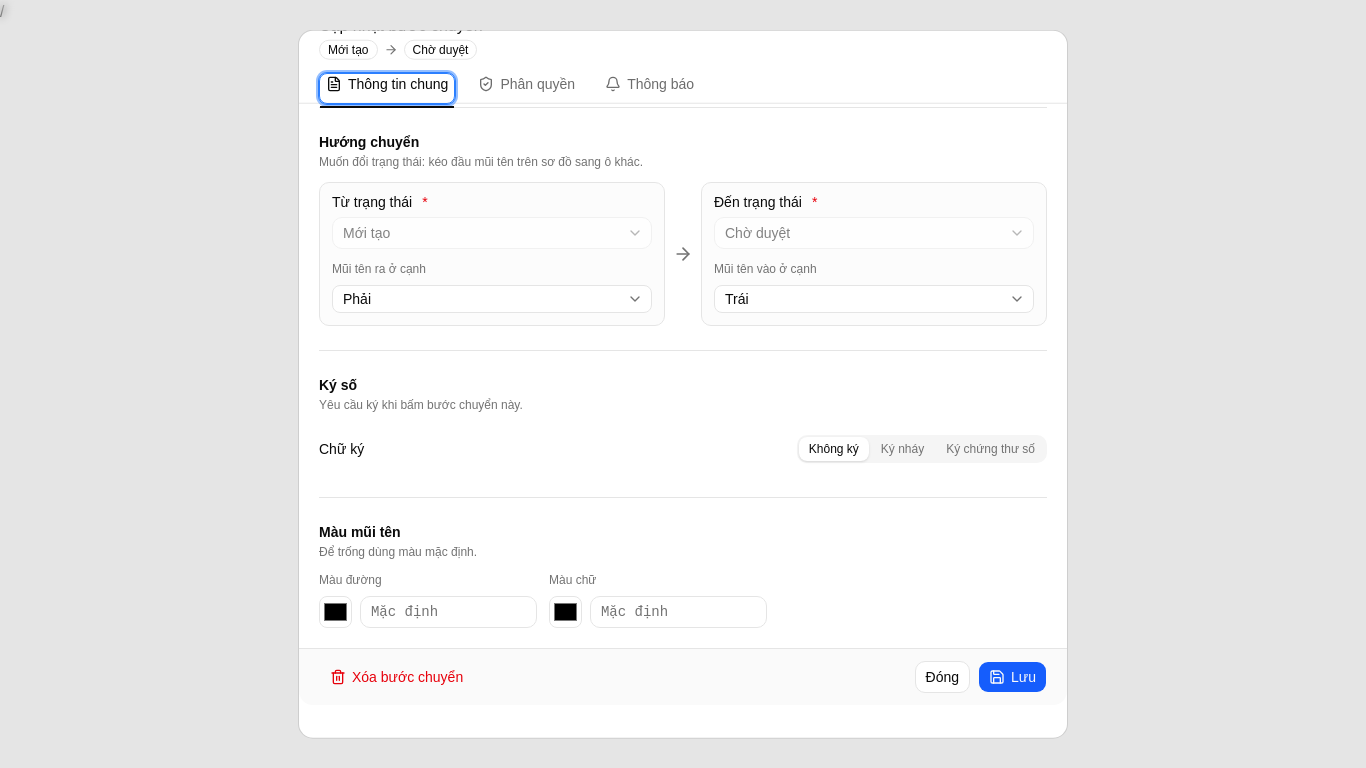
Test: TransitionDialog › edit: loads the transition, keeps from/to locked and only asks for the signer when signing
(page scrolled)
Expected: the dropdown named "Từ trạng thái" reads "Mới tạo", [332,217,652,249]
Expected: the dropdown named "Từ trạng thái" is disabled, [332,217,652,249]
What coordinates should you click on to do the following:
click the radio button with aria-label "Chọn chữ ký: Ký nháy"
I would click on:
 (903, 449)
Its box is [871,437,934,461].
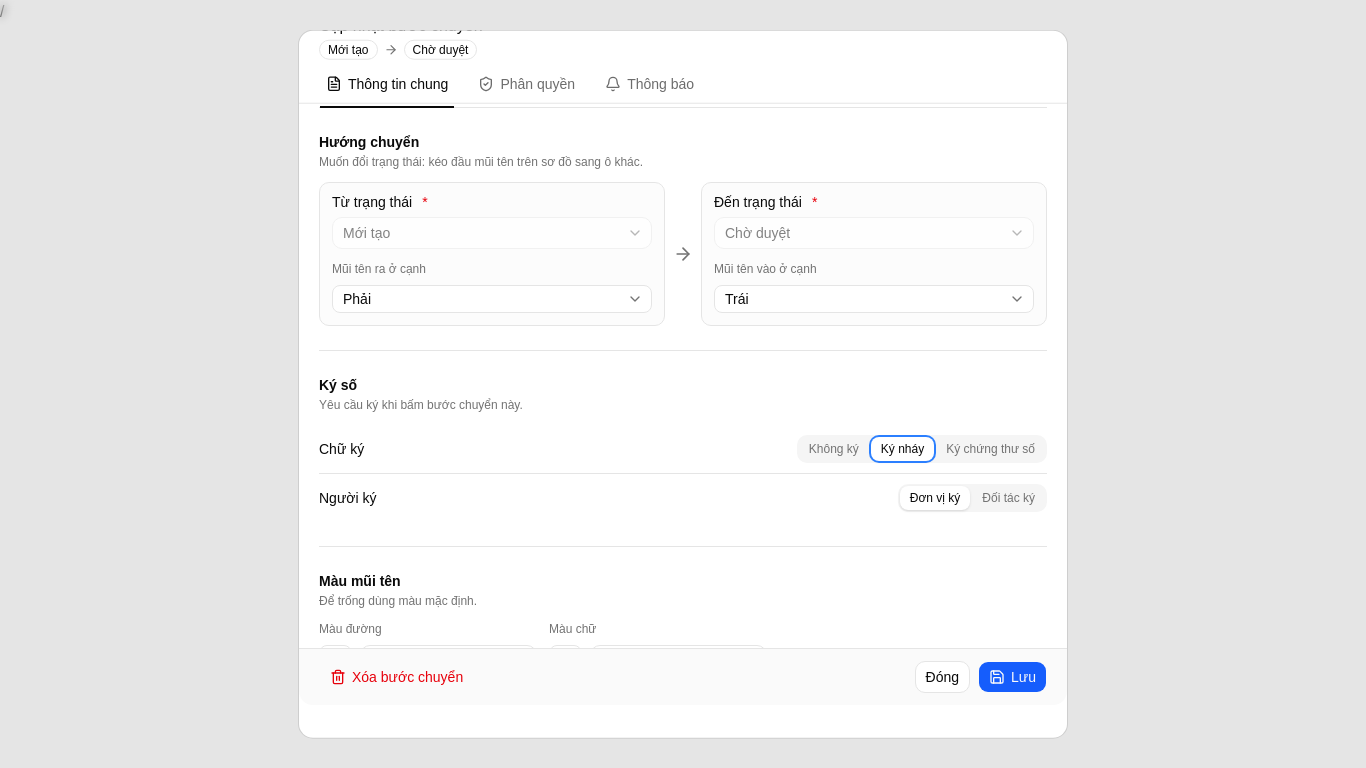
Result: the radio button with aria-label "Người ký: Đơn vị ký" is checked at [900,486,970,510]
